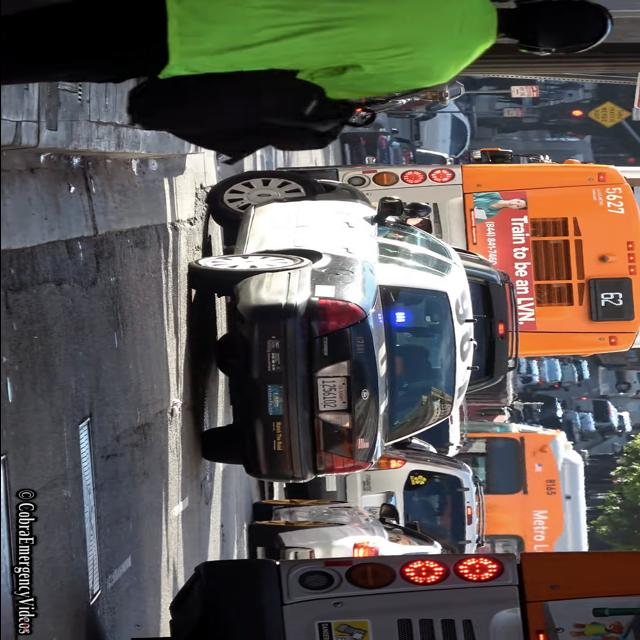emergency-vehicles: (165, 170, 479, 488)
